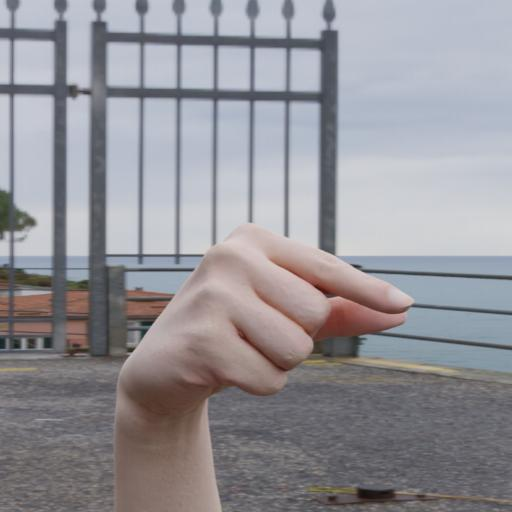G: (105, 206, 426, 498)
